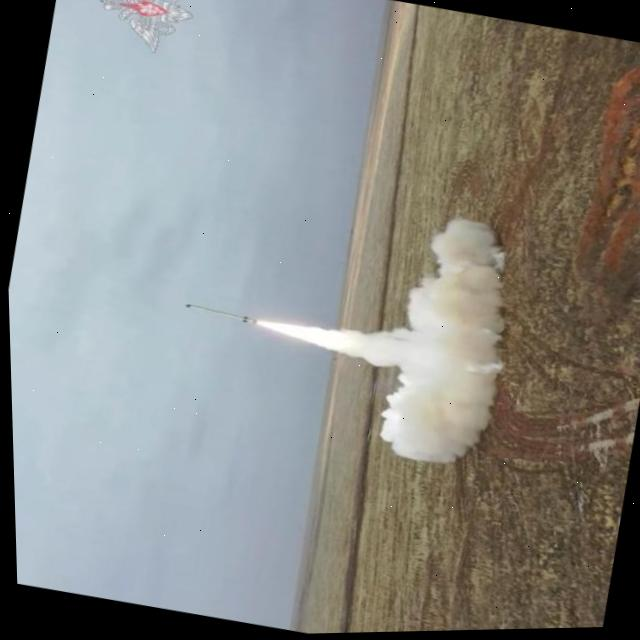missile: (181, 300, 262, 330)
